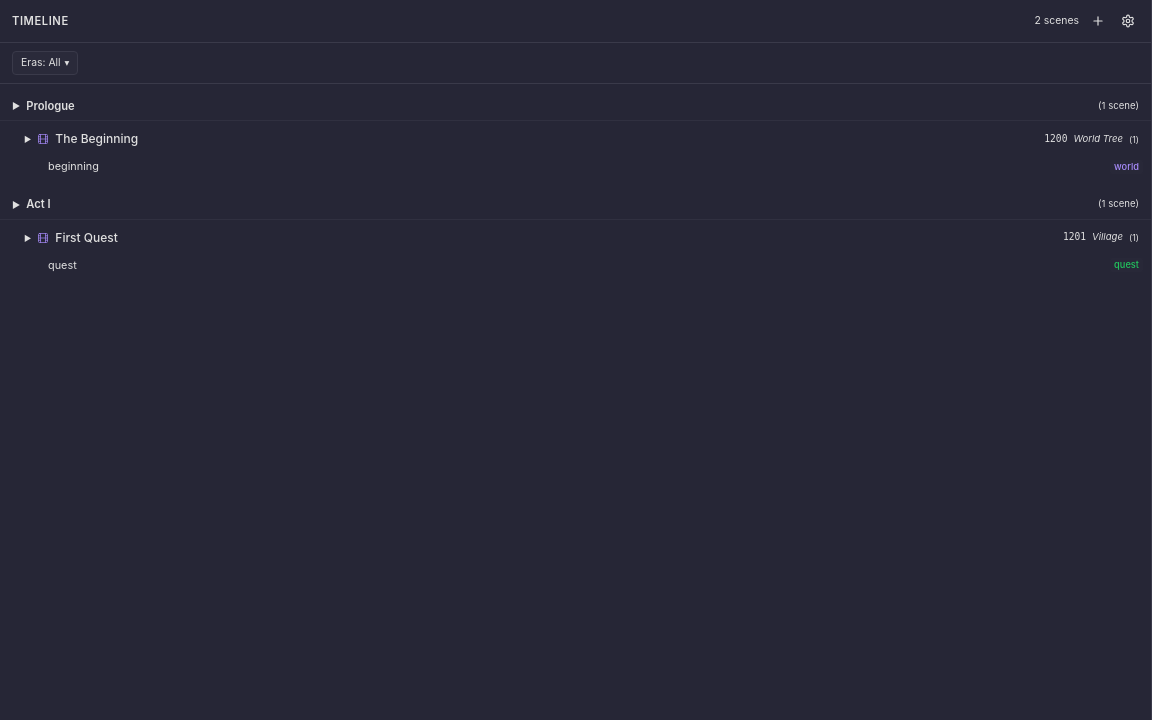
Scenario: TimelineView › opens settings modal when settings button is clicked
Expected: the text "Timeline" is shown, [12, 13, 69, 29]
Click the button titled "Manage Eras".
click(1128, 21)  # box [1117, 10, 1139, 32]
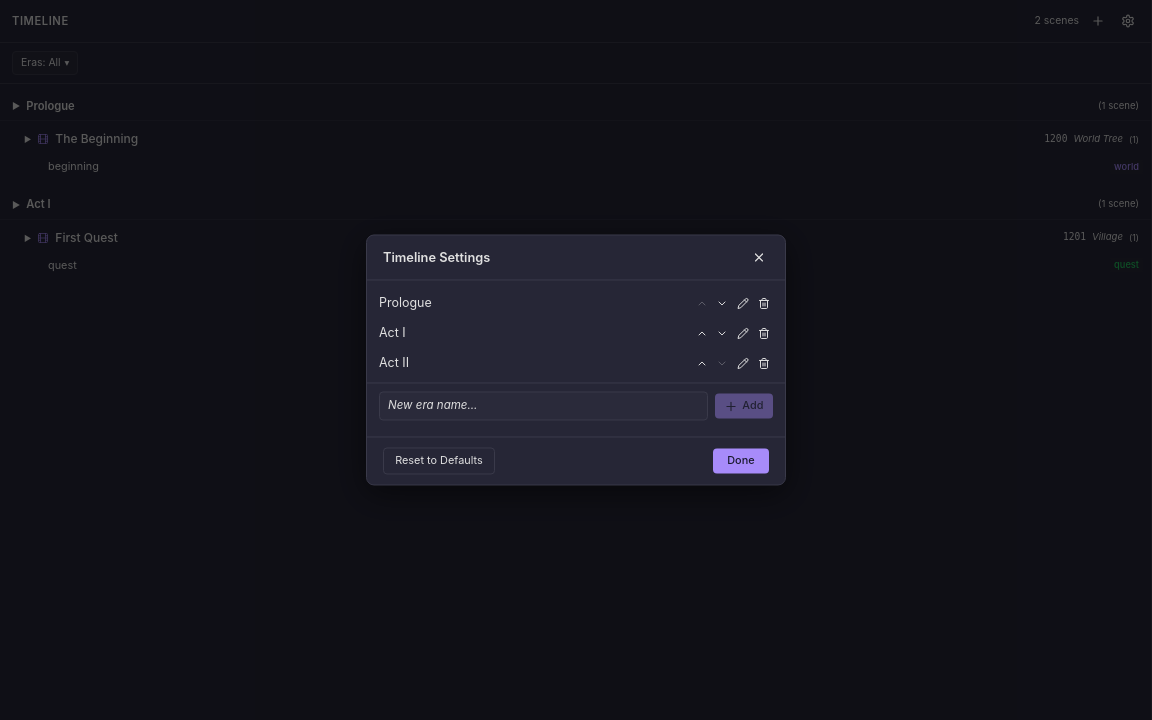
Expected: the text "Timeline Settings" is shown, [383, 248, 490, 267]
